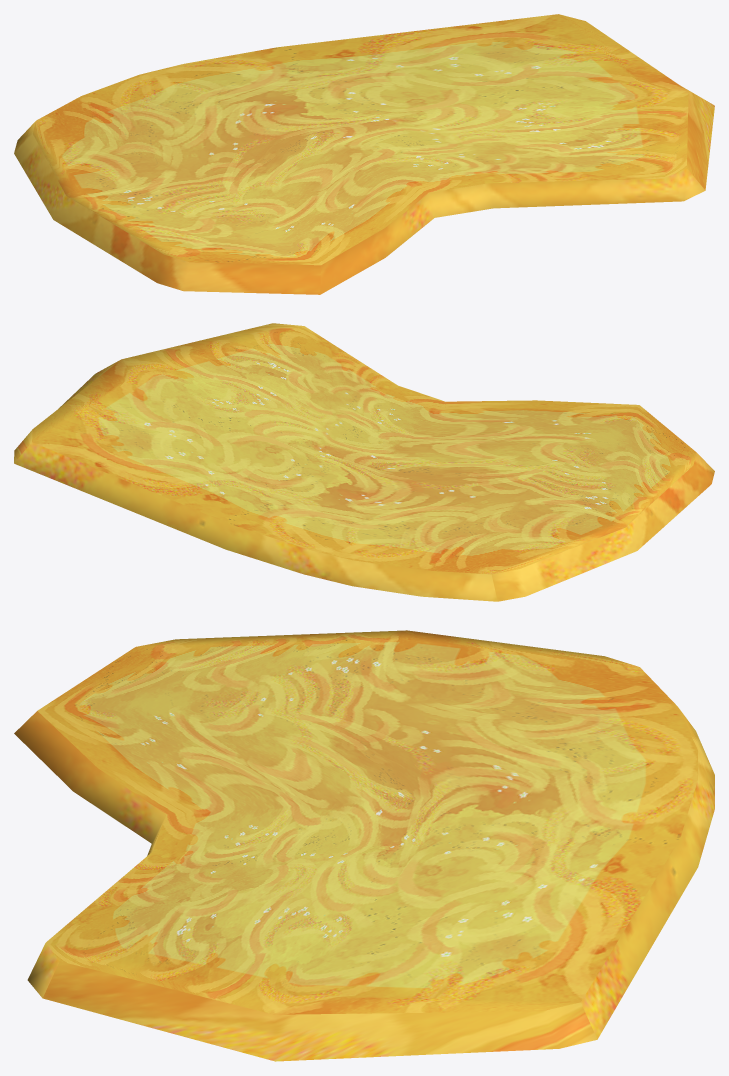
The model's file is s0_Path_04__1__01.glb.
3 renders of one model, top to bottom at view 1: azimuth 30°, elevation 25°; view 2: azimuth 150°, elevation 25°; view 3: azimuth 270°, elevation 25°, orthographic. The views are drawn at different scales.
Visible parts, largest first — view 1: node_Path_04 (1); view 2: node_Path_04 (1); view 3: node_Path_04 (1).
Part boxes in pixels (x1,y1,x2,y2): node_Path_04 (1): (14,14,714,294); node_Path_04 (1): (14,323,714,601); node_Path_04 (1): (14,630,714,1061).
Size of what is drawn, in the model's own units: 6.33 by 0.2079 by 4.57.
1 material, 1 textured.
